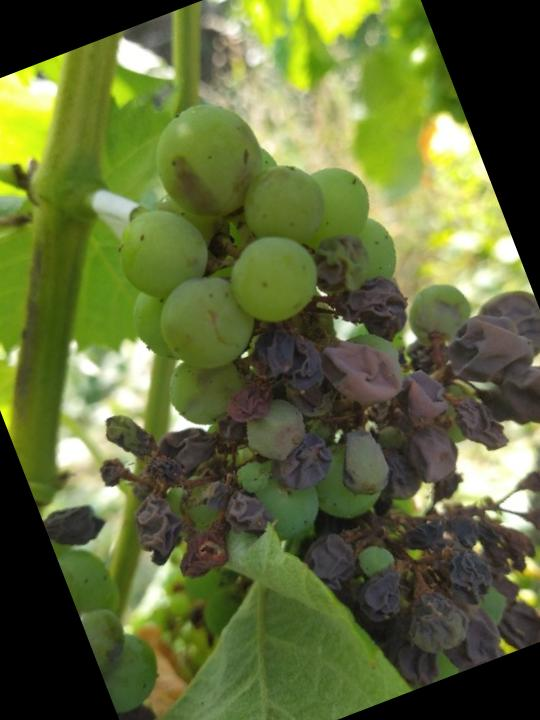grape: (0, 5, 540, 720)
